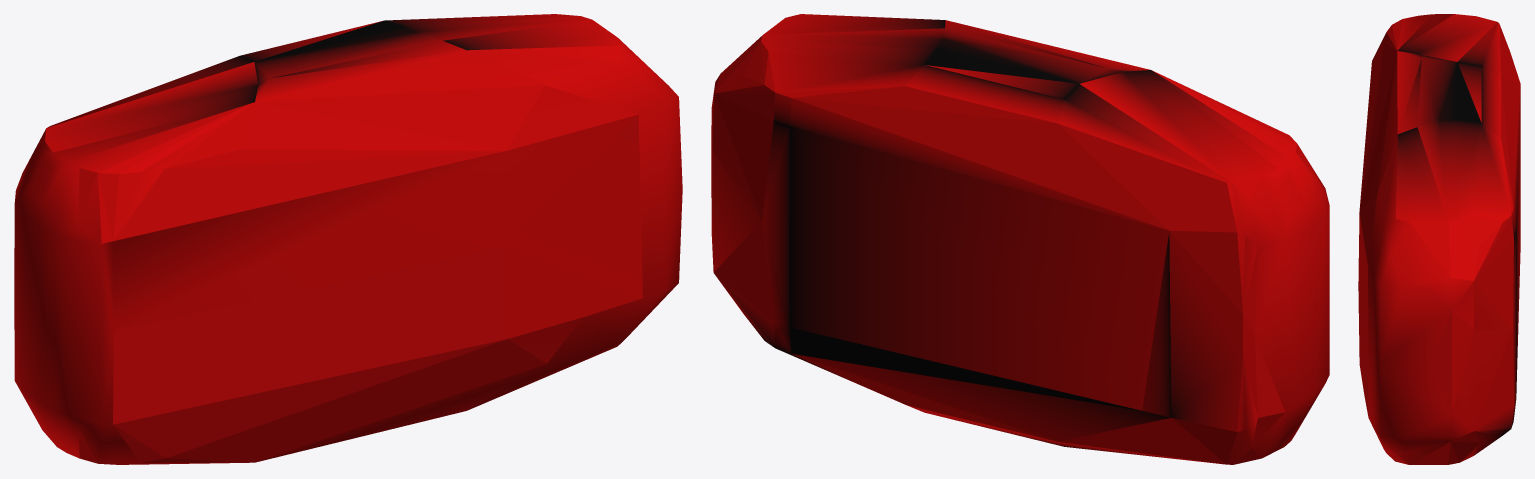
3 views of the same model, side by side, from view 1: azimuth 30°, elevation 25°; view 2: azimuth 150°, elevation 25°; view 3: azimuth 270°, elevation 25° (orthographic). The views are drawn at different scales.
Visible parts, largest first — view 1: base_collision; view 2: base_collision; view 3: base_collision.
Part boxes in pixels (left/top/right/bottom): base_collision: left=14, top=14, right=682, bottom=464; base_collision: left=711, top=14, right=1329, bottom=464; base_collision: left=1358, top=14, right=1520, bottom=464.
Size of the model in its own units: 0.3318 by 0.1921 by 0.094.
